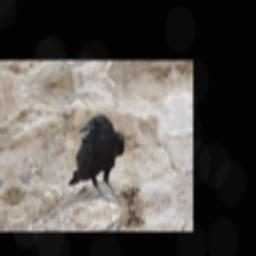Crow: (59, 110, 133, 209)
